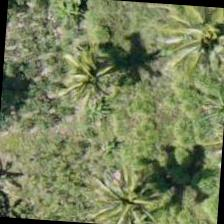Kelapa_Sawit: (100, 128, 197, 223)
